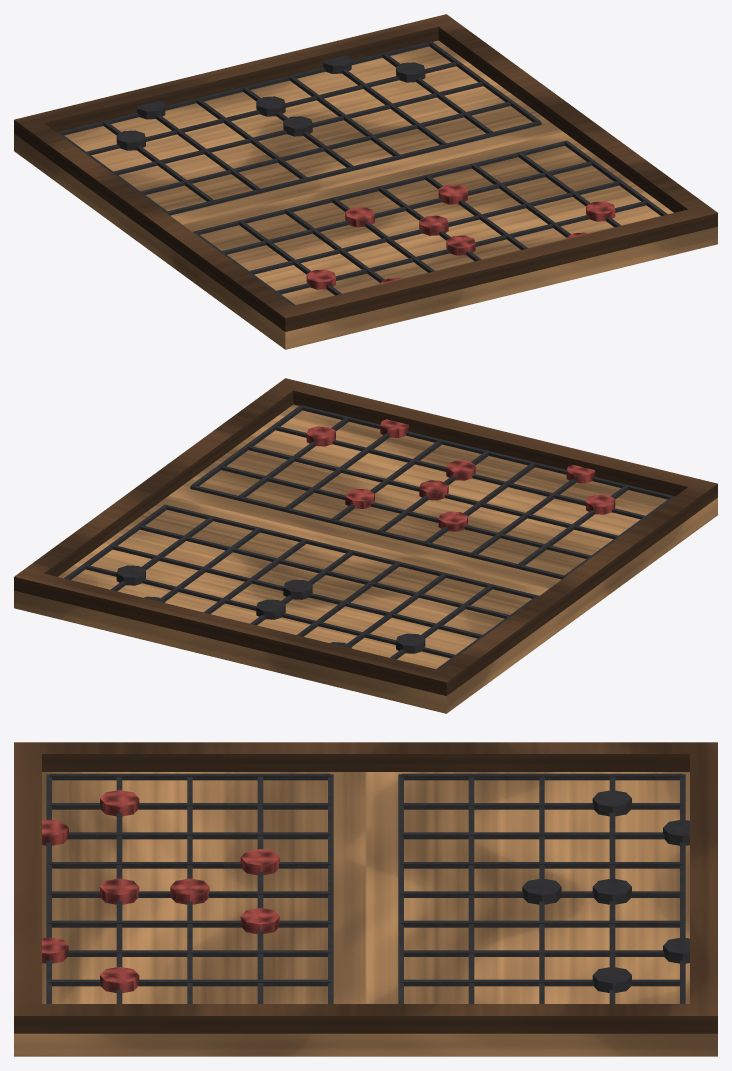
File: chinese_chess.fbx
3 renders of one model, top to bottom at view 1: azimuth 30°, elevation 25°; view 2: azimuth 150°, elevation 25°; view 3: azimuth 270°, elevation 25°, orthographic. The views are drawn at different scales.
Visible parts, largest first — view 1: chinese_chess; view 2: chinese_chess; view 3: chinese_chess.
Boxes of the visible parts, bbox=[...] form: chinese_chess: bbox=[14, 14, 717, 349]; chinese_chess: bbox=[14, 378, 717, 713]; chinese_chess: bbox=[14, 742, 717, 1056].
Bounding box in the file's own units: 46 × 3.2 × 50.
